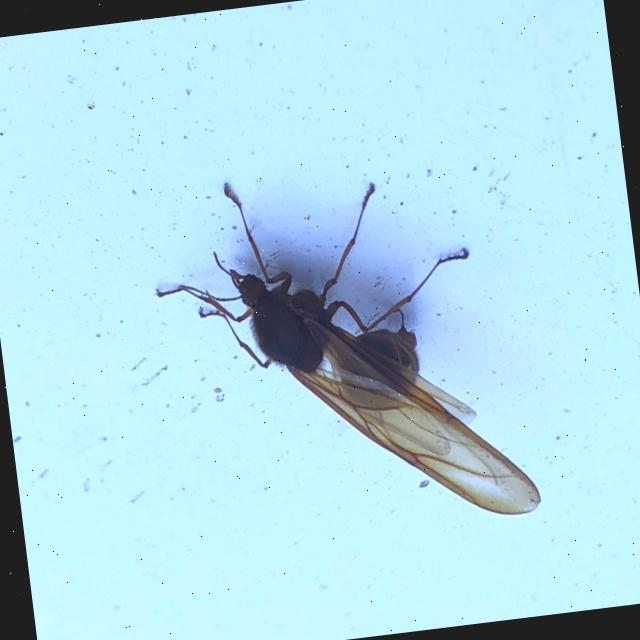Alive-Male-Alate: (143, 150, 542, 554)
